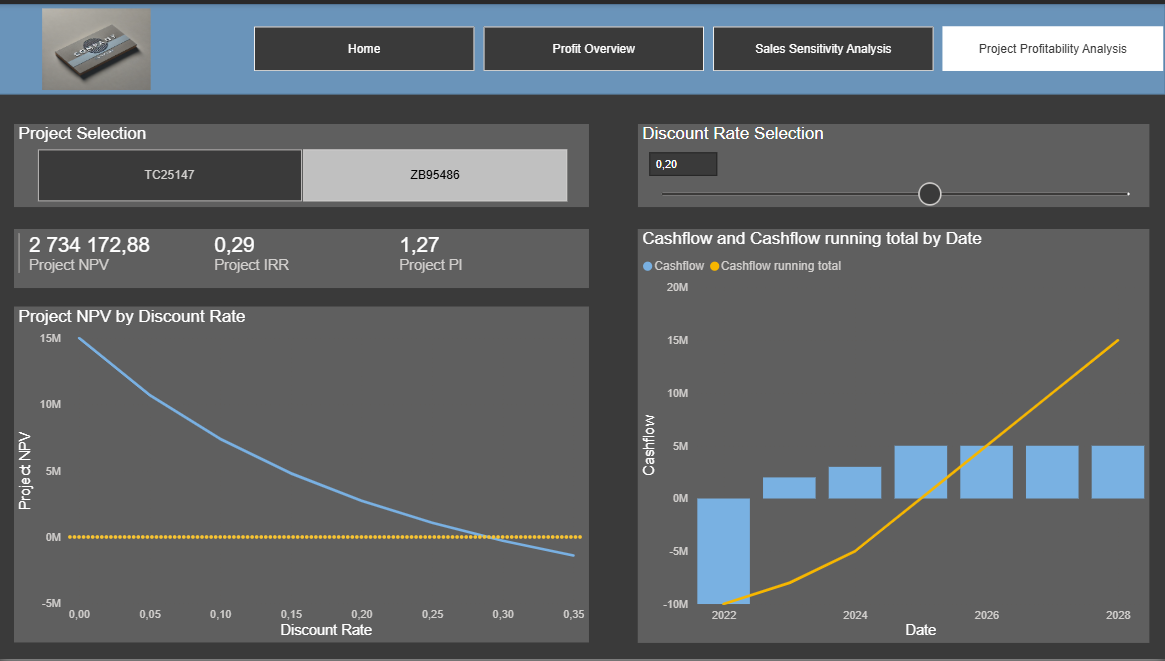

The page's visual inventory and layout, read from the dashboard file:
{"tool":"powerbi","page":{"name":"Project Profitability Analysis","canvas":[1280,720],"ordinal":3},"visuals":[{"type":"shape","box":[0,0,1280,99.2],"z":0,"group":"g1"},{"type":"lineStackedColumnComboChart","title":"Cashflow and Cashflow running total by Date","fields":{"Category":["Cash Flow.Date"],"Y":["Sum(Cash Flow.Cashflow)"],"Y2":["Cash Flow.Cashflow running total in Date"]},"box":[701.3,247.1,561.2,454.2],"z":0},{"type":"pageNavigator","box":[280.1,24.3,999.9,49.6],"z":1000,"group":"g1"},{"type":"multiRowCard","fields":{"Values":["Cash Flow.Project NPV","Cash Flow.Project IRR","Cash Flow.Project PI"]},"box":[16.5,247.1,631.2,65.2],"z":1000},{"type":"group","id":"g1","title":"Group 1","box":[0,0,1280,98.9],"z":2000},{"type":"slicer","title":"Discount Rate Selection","fields":{"Values":["Rate .Rate "]},"box":[701.3,132.3,561.2,91.4],"z":3000},{"type":"lineChart","fields":{"Y":["Cash Flow.Project NPV"],"Category":["Rate .Rate "]},"box":[16.5,332.6,631.2,368.6],"z":4000},{"type":"slicer","title":"Project Selection","fields":{"Values":["Cash Flow.Product"]},"box":[16.5,132.3,631.2,91.4],"z":5000},{"type":"image","box":[42.8,0,129.4,99.2],"z":6000}]}

Visuals, with their boxes in screenshot pixels (x1, y1, x2, y2), scaled from the page's 1280x720 canvas onto the 1165x661 screenshot:
shape: rect(0, 0, 1164, 91)
"Cashflow and Cashflow running total by Date" lineStackedColumnComboChart: rect(638, 227, 1149, 644)
pageNavigator: rect(255, 22, 1164, 68)
multiRowCard - Cash Flow.Project NPV x Cash Flow.Project IRR: rect(15, 227, 590, 287)
"Group 1" group: rect(0, 0, 1164, 91)
"Discount Rate Selection" slicer: rect(638, 121, 1149, 205)
lineChart - Cash Flow.Project NPV x Rate .Rate : rect(15, 305, 590, 644)
"Project Selection" slicer: rect(15, 121, 590, 205)
image: rect(39, 0, 157, 91)
